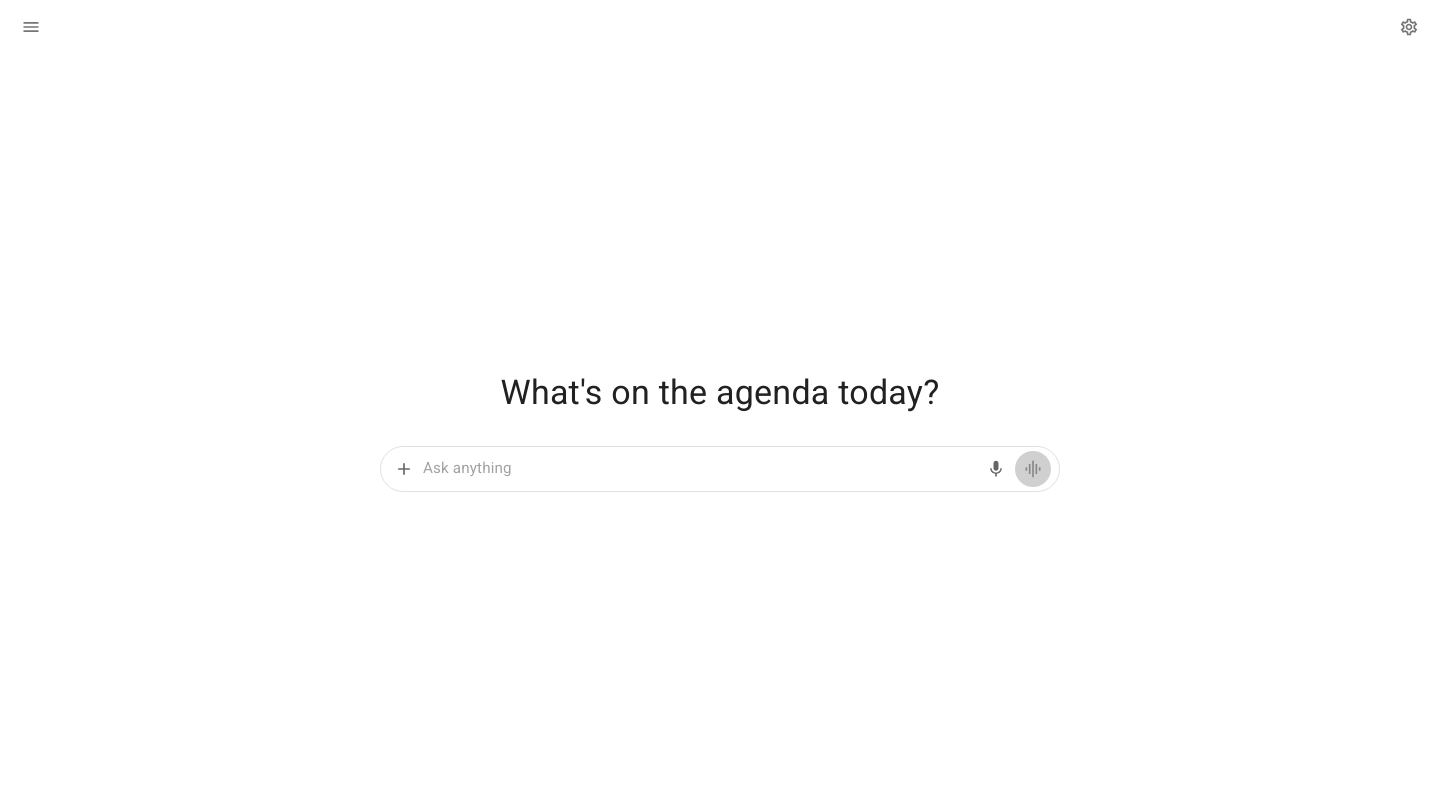
Test: ChatShell › hides the sidebar behind a menu button on a narrow window
Click the button named "Open conversations". click: point(31, 27)
box: [16, 12, 46, 42]
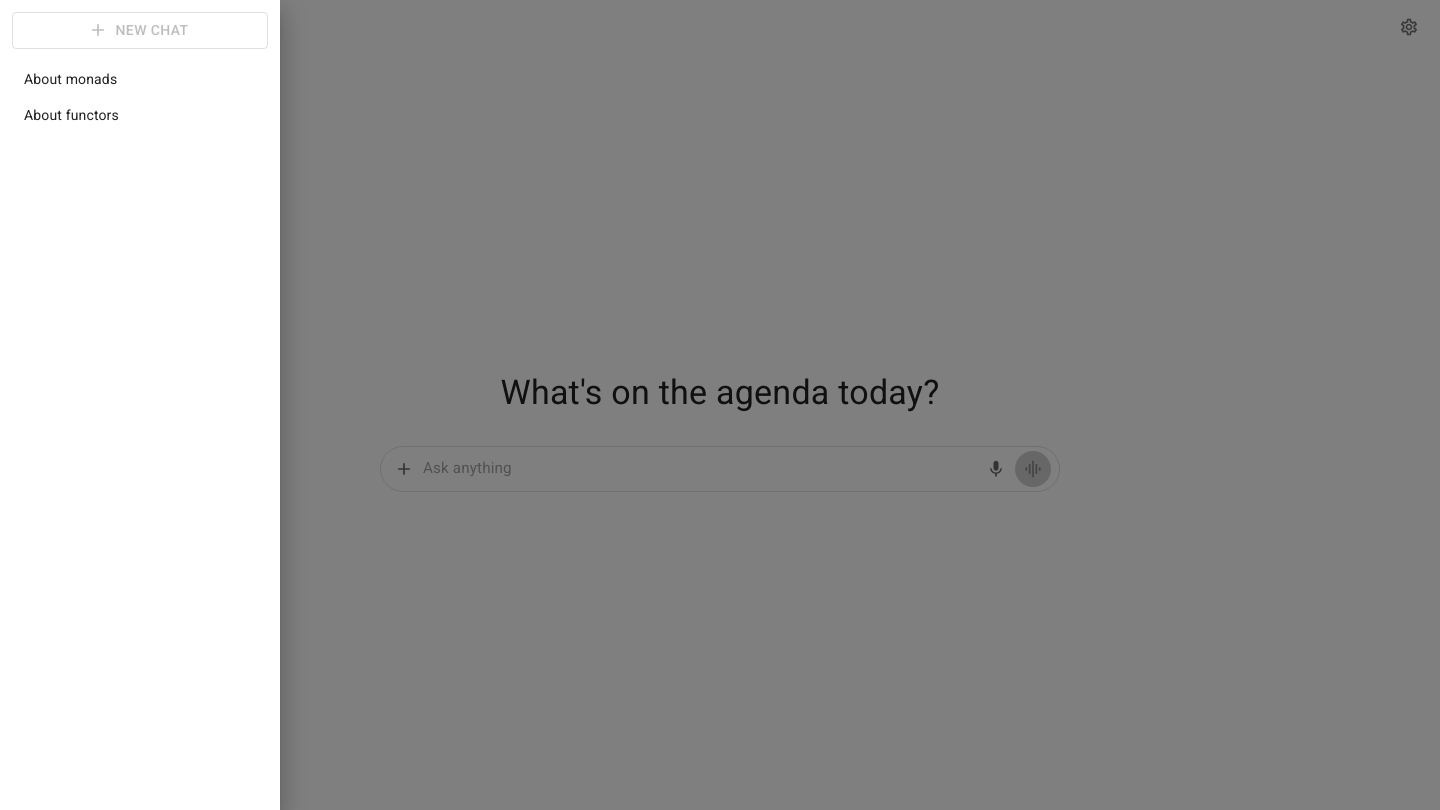
Expected: the text "About monads" is shown, [24, 70, 117, 86]
